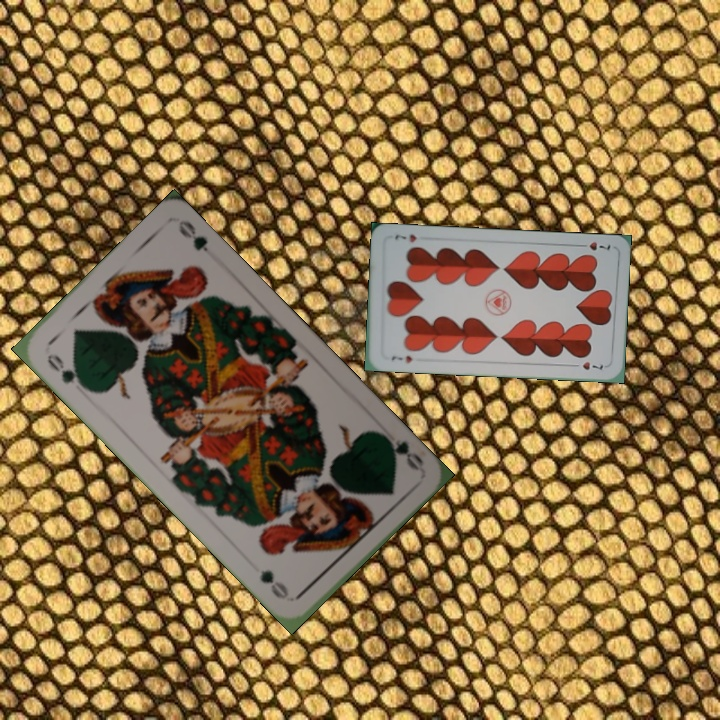GO: (375, 429, 427, 474), (43, 349, 90, 392)
H7: (574, 238, 613, 253), (387, 351, 414, 365)
